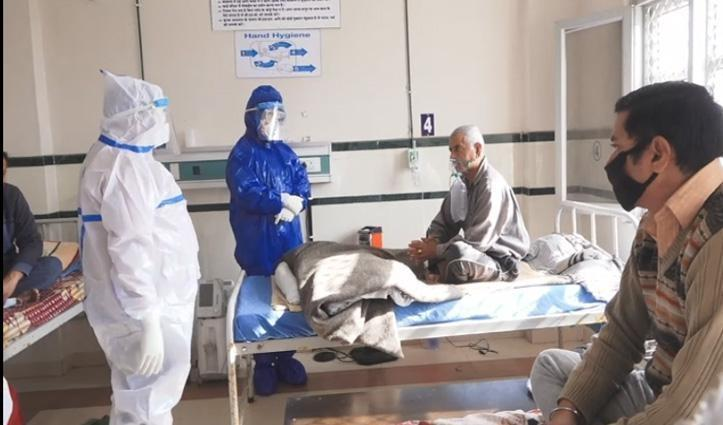apron: (119, 302, 173, 385), (267, 181, 309, 240)
